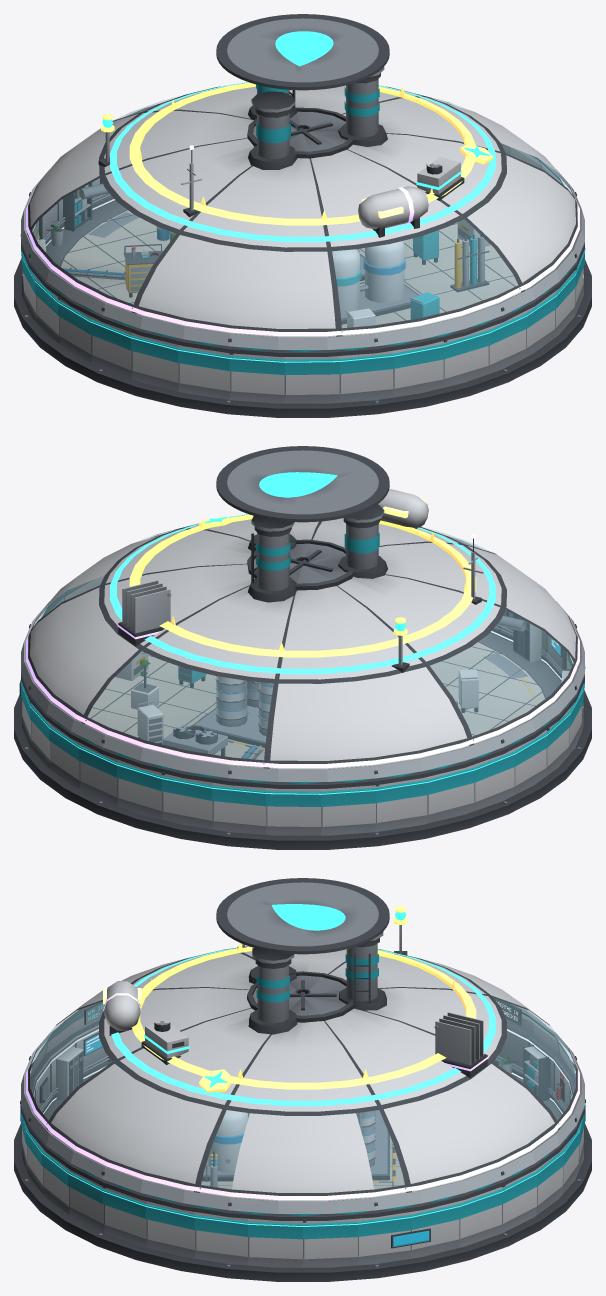
File: oxygen_plant_l.glb
The picture shows the model from 3 angles, top to bottom: view 1: azimuth 30°, elevation 25°; view 2: azimuth 150°, elevation 25°; view 3: azimuth 270°, elevation 25°; orthographic projection.
Parts seen in each view (by area): view 1: Roof, Base, Interior, L3, L5, Wall_21, Wall_20, Wall_22, Wall_19, L4, Wall_23, Wall_18 (+20 smaller); view 2: Roof, Base, Interior, L5, L4, L3, Wall_10, Wall_11, Wall_09, Wall_12, Wall_08, Wall_13 (+19 smaller); view 3: Roof, Base, L5, L3, L4, Interior, Wall_00, Wall_31, Wall_30, Wall_29, Wall_01, Wall_02 (+23 smaller).
Boxes of the visible parts, left/top/right/bottom form: Roof: left=21, top=14, right=584, bottom=356; Base: left=14, top=201, right=591, bottom=417; Interior: left=63, top=212, right=490, bottom=327; L3: left=110, top=82, right=495, bottom=242; L5: left=98, top=82, right=493, bottom=225; Wall_21: left=284, top=356, right=339, bottom=403; Wall_20: left=229, top=352, right=284, bottom=403; Wall_22: left=339, top=350, right=393, bottom=402; Wall_19: left=178, top=345, right=230, bottom=399; L4: left=358, top=186, right=428, bottom=237; Wall_23: left=393, top=341, right=444, bottom=397; Wall_18: left=130, top=333, right=178, bottom=391; Roof: left=21, top=446, right=584, bottom=788; Base: left=14, top=633, right=591, bottom=849; Interior: left=115, top=651, right=536, bottom=759; L5: left=129, top=514, right=476, bottom=672; L4: left=117, top=488, right=428, bottom=646; L3: left=110, top=514, right=495, bottom=674; Wall_10: left=266, top=788, right=321, bottom=835; Wall_11: left=321, top=785, right=376, bottom=835; Wall_09: left=212, top=782, right=266, bottom=834; Wall_12: left=375, top=777, right=427, bottom=831; Wall_08: left=161, top=772, right=212, bottom=829; Wall_13: left=427, top=765, right=475, bottom=823; Roof: left=21, top=878, right=584, bottom=1220; Base: left=14, top=1075, right=591, bottom=1281; L5: left=132, top=906, right=476, bottom=1092; L3: left=111, top=946, right=495, bottom=1106; L4: left=103, top=981, right=488, bottom=1078; Interior: left=202, top=1110, right=395, bottom=1189; Wall_00: left=303, top=1218, right=358, bottom=1267; Wall_31: left=247, top=1218, right=302, bottom=1267; Wall_30: left=194, top=1212, right=247, bottom=1265; Wall_29: left=146, top=1201, right=195, bottom=1258; Wall_01: left=358, top=1212, right=411, bottom=1265; Wall_02: left=410, top=1201, right=459, bottom=1258.
Size of the model in its own units: 14.15 by 6.63 by 14.15.
